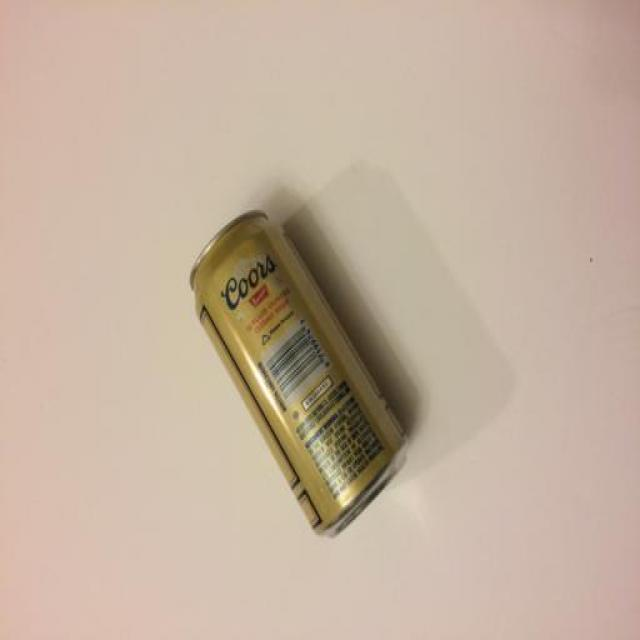metel: (194, 232, 403, 530)
